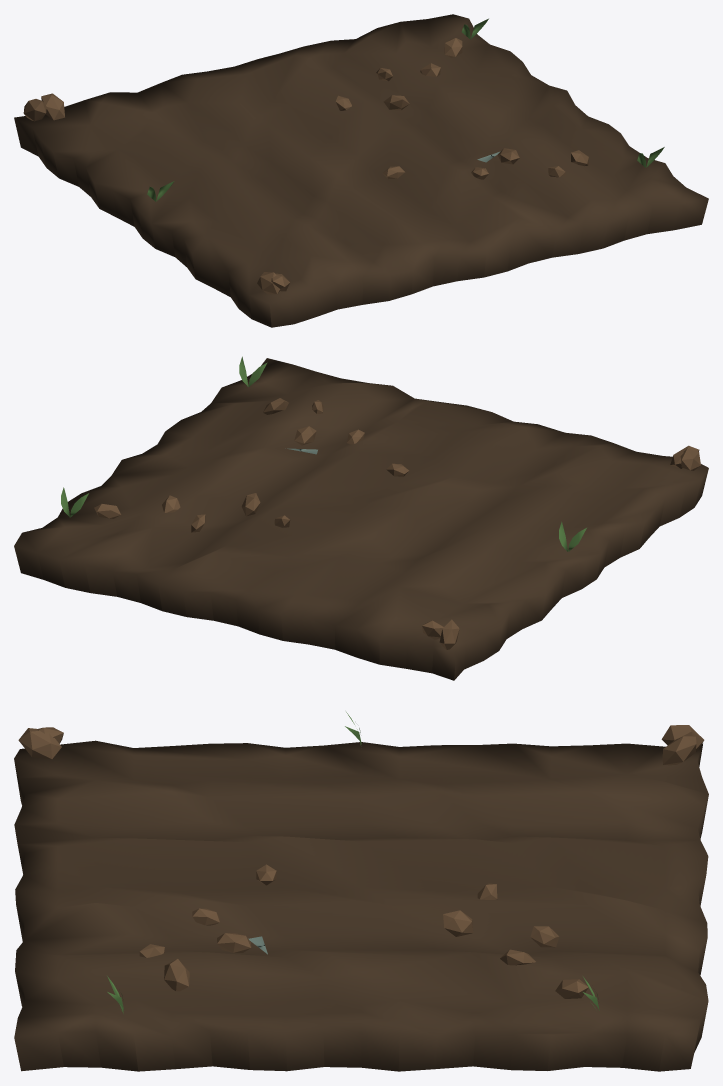
Rendered from parcela_regada_lod.glb.
3 views of the same model, one above another, from view 1: azimuth 30°, elevation 25°; view 2: azimuth 150°, elevation 25°; view 3: azimuth 270°, elevation 25° (orthographic). The views are drawn at different scales.
Parts seen in each view (by area): view 1: parcela_regada; view 2: parcela_regada; view 3: parcela_regada.
Boxes of the visible parts, x1=… form: parcela_regada: x1=14, y1=14, x2=708, y2=327; parcela_regada: x1=14, y1=356, x2=708, y2=680; parcela_regada: x1=14, y1=712, x2=708, y2=1071.
Size of the model in its own units: 1.41 by 0.1694 by 1.4.
